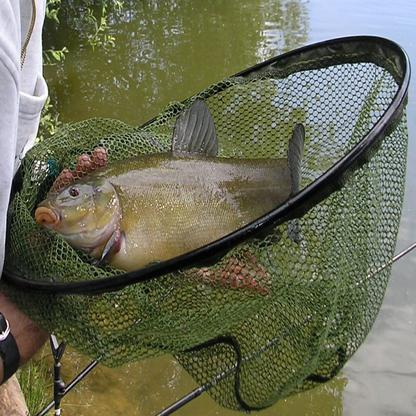fish: (35, 102, 308, 271)
